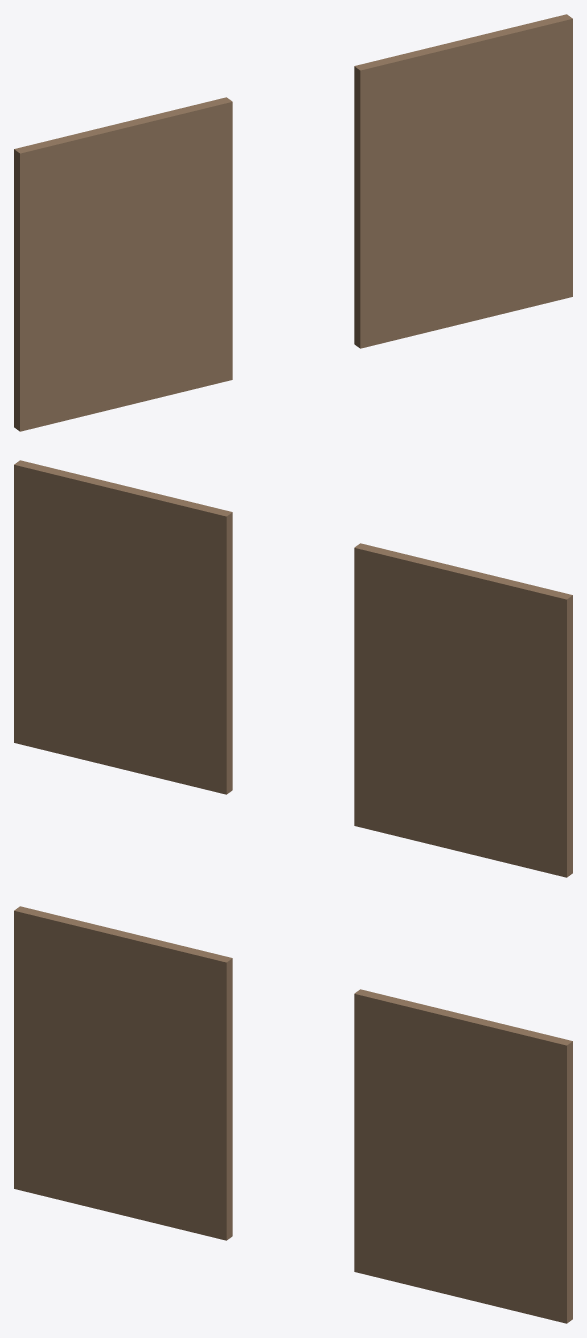
The model's file is poster_frame.glb.
3 views of the same model, one above another, from view 1: azimuth 30°, elevation 25°; view 2: azimuth 150°, elevation 25°; view 3: azimuth 330°, elevation 25° (orthographic).
Visible parts, largest first — view 1: posterframe_0, posterframe_1; view 2: posterframe_0, posterframe_1; view 3: posterframe_0, posterframe_1.
Boxes of the visible parts, <box> form: posterframe_0: <box>14,97,232,431</box>; posterframe_1: <box>354,14,572,348</box>; posterframe_0: <box>354,543,572,877</box>; posterframe_1: <box>14,460,232,794</box>; posterframe_0: <box>14,906,232,1240</box>; posterframe_1: <box>354,989,572,1323</box>.
Size of the model in its own units: 2.6 by 1.25 by 0.05.
